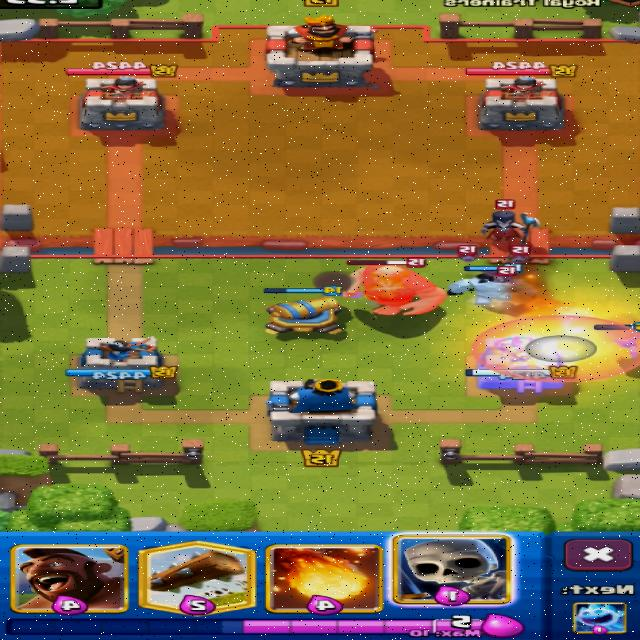Enemy-Bat: (497, 263, 521, 281), (459, 245, 478, 261), (512, 245, 529, 262)
Enemy-Giant: (344, 266, 447, 314)
Enemy-KingTower: (267, 15, 374, 87), (344, 266, 447, 314)
Enemy-NightWitch: (482, 199, 540, 243)
Enemy-PrincessTower: (80, 75, 165, 132), (479, 78, 564, 131)
Player-Cannon: (266, 297, 342, 333)
Player-IceGolem: (448, 265, 535, 309)
Player-KingTower: (267, 379, 378, 445)
Player-Musketeer: (610, 331, 639, 357)
Player-PrincessTower: (467, 336, 577, 393), (68, 336, 178, 393)
